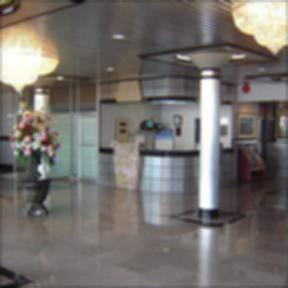Matera: (14, 107, 61, 217)
